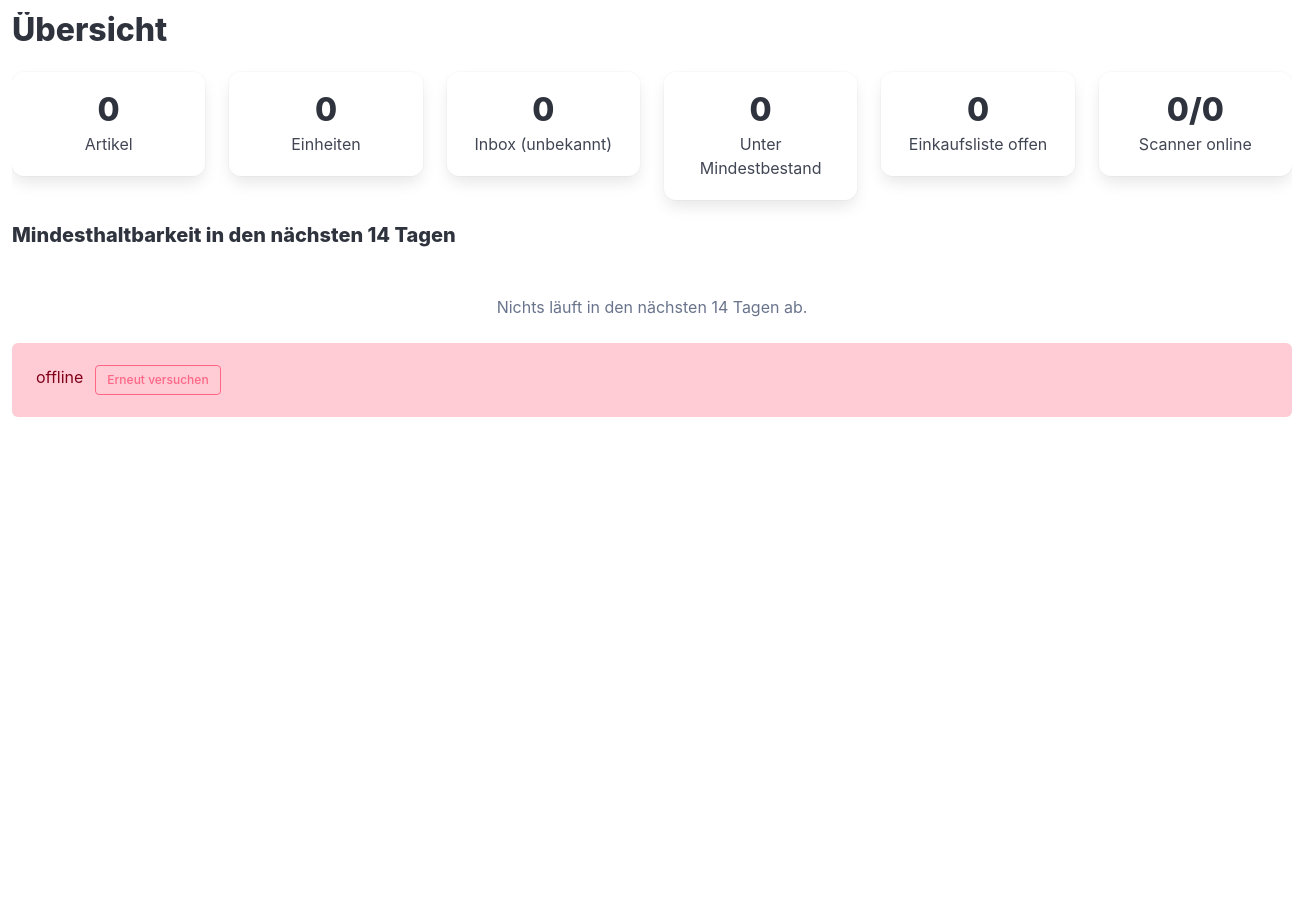
Test: DashboardPage › shows empty state and errors
The width and height of the screenshot is (1292, 912).
Expected: the text "Nichts läuft in den nächsten 14 Tagen ab." is shown, [497,296,807,316]
Step 1. Click the button "Erneut versuchen" → (158, 380), box [95,364,221,394]
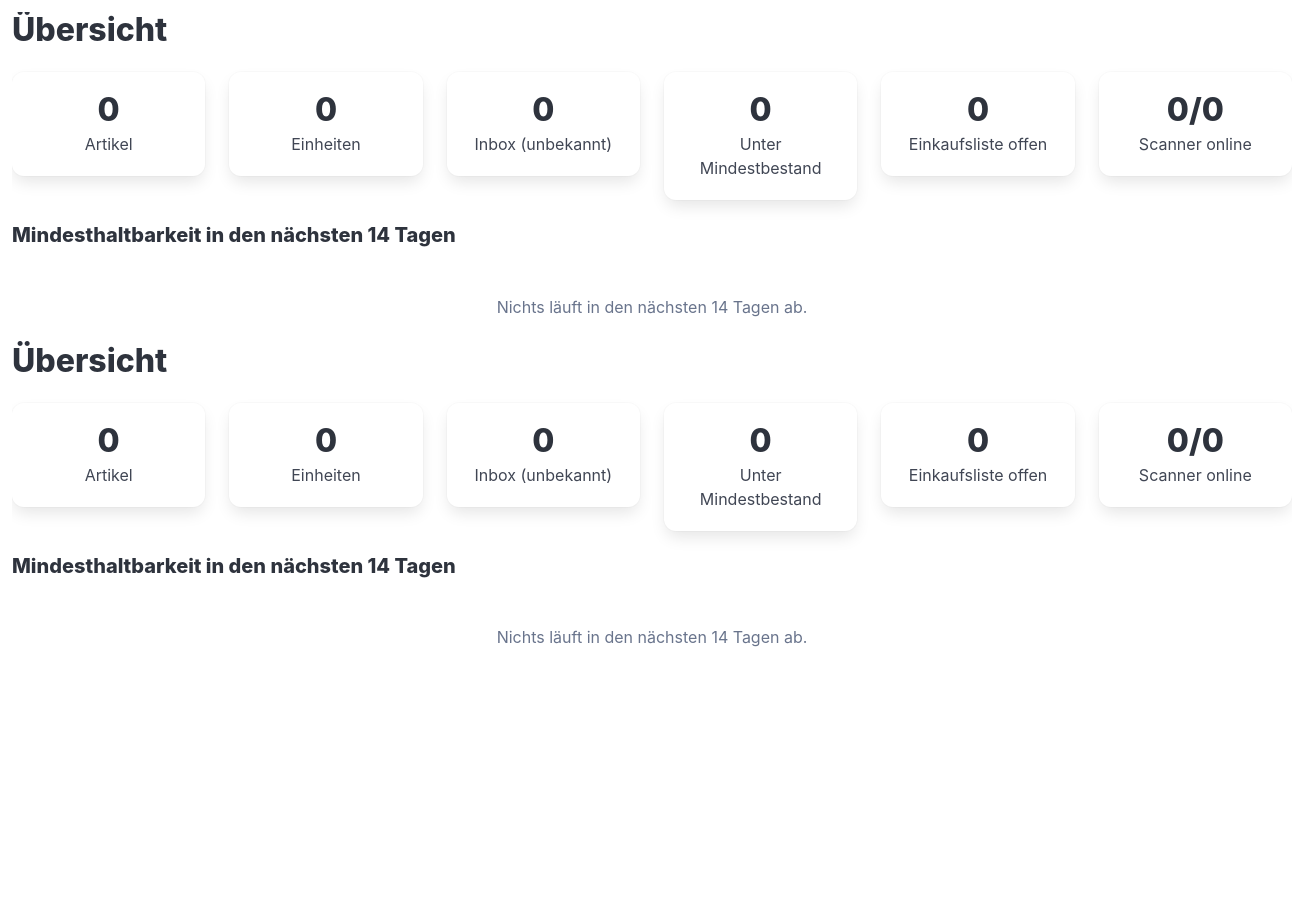
Expected: the text "Nichts läuft in den nächsten 14 Tagen ab." is shown 2 times, [497,296,807,316]; [497,627,807,647]
